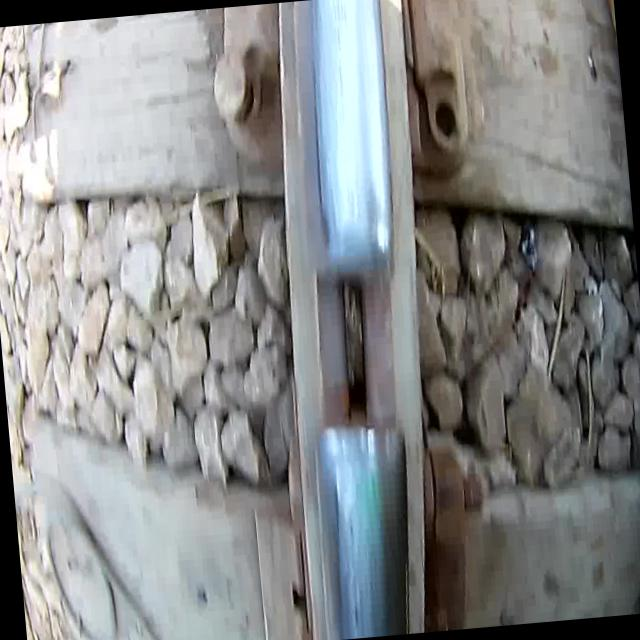Joint: (281, 210, 436, 481)
